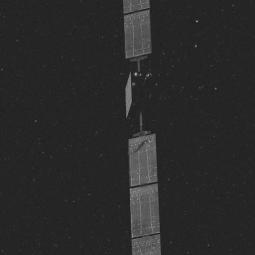smart_1: (110, 23, 168, 181)
